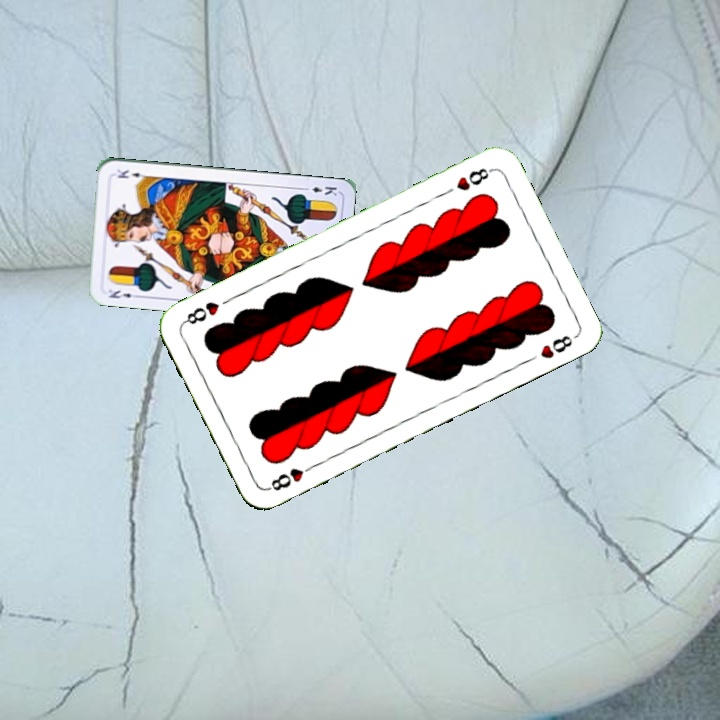EK: (299, 182, 340, 199), (105, 286, 141, 301)
H8: (263, 460, 318, 494), (452, 164, 495, 194)
